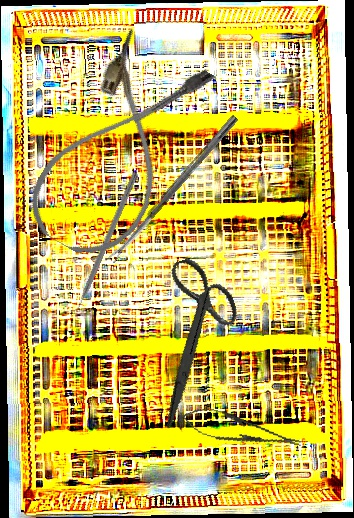Cannula: (15, 25, 223, 273)
Chopper: (63, 167, 139, 321)
Iris Scissors: (117, 248, 266, 428)
Needle Holder: (175, 401, 306, 459)
Surgical Spoon: (107, 113, 239, 264)
